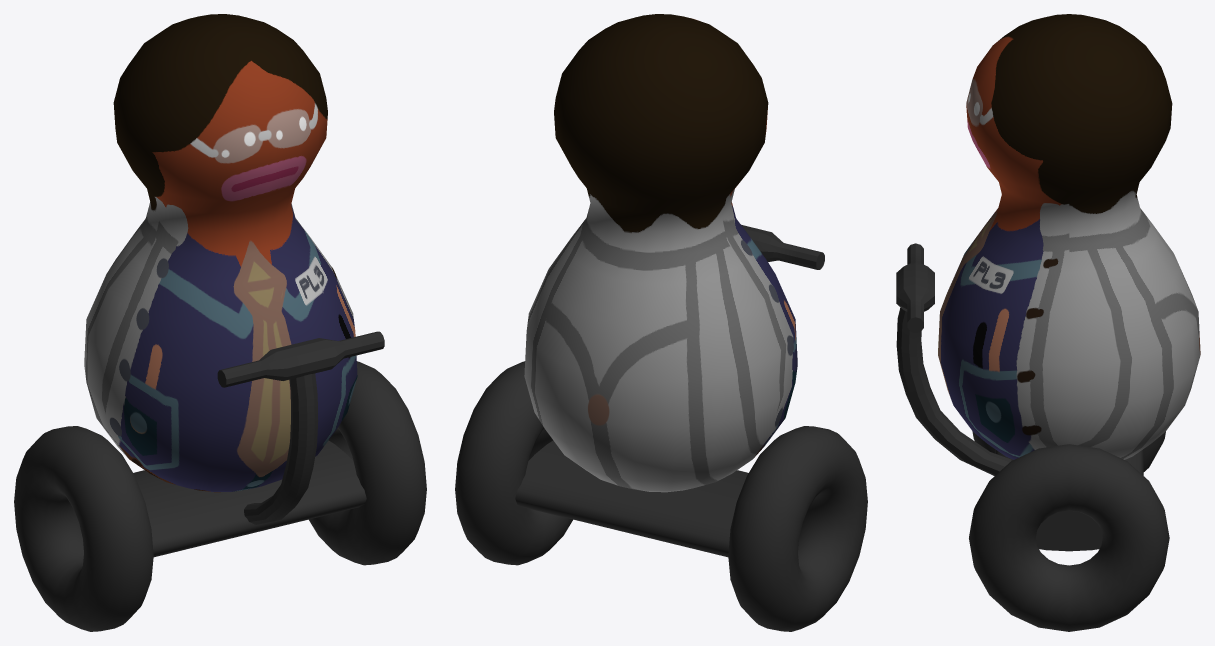
File: begoneplayer3.fbx
3 renders of one model, left to right at view 1: azimuth 30°, elevation 25°; view 2: azimuth 150°, elevation 25°; view 3: azimuth 270°, elevation 25°, orthographic. The views are drawn at different scales.
Visible parts, largest first — view 1: polySurface8; view 2: polySurface8; view 3: polySurface8.
Boxes of the visible parts, bbox=[...] form: polySurface8: bbox=[14, 14, 426, 631]; polySurface8: bbox=[455, 14, 867, 631]; polySurface8: bbox=[896, 14, 1200, 631].
Bounding box in the file's own units: 2.73 × 4.42 × 2.26.
